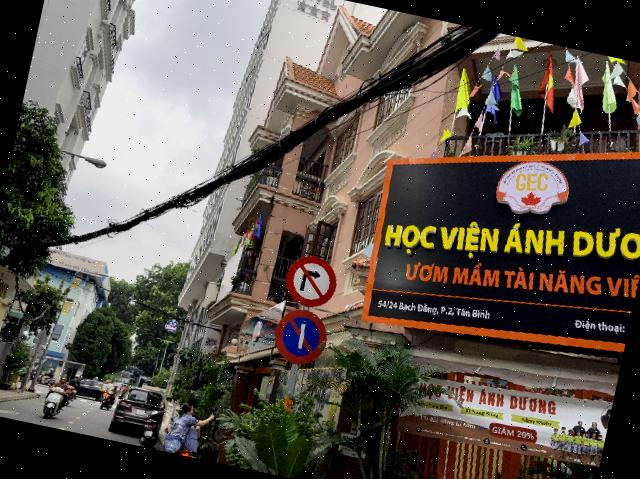cam-do-xe-ngay-le: (269, 304, 332, 370)
cam-re-phai: (280, 251, 342, 312)
